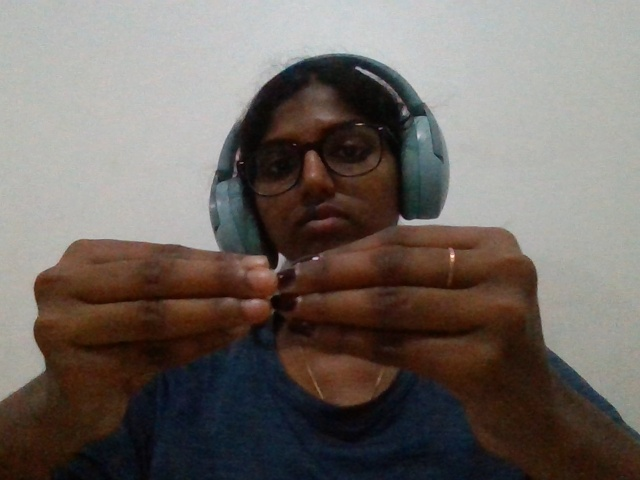More: (17, 194, 587, 453)
